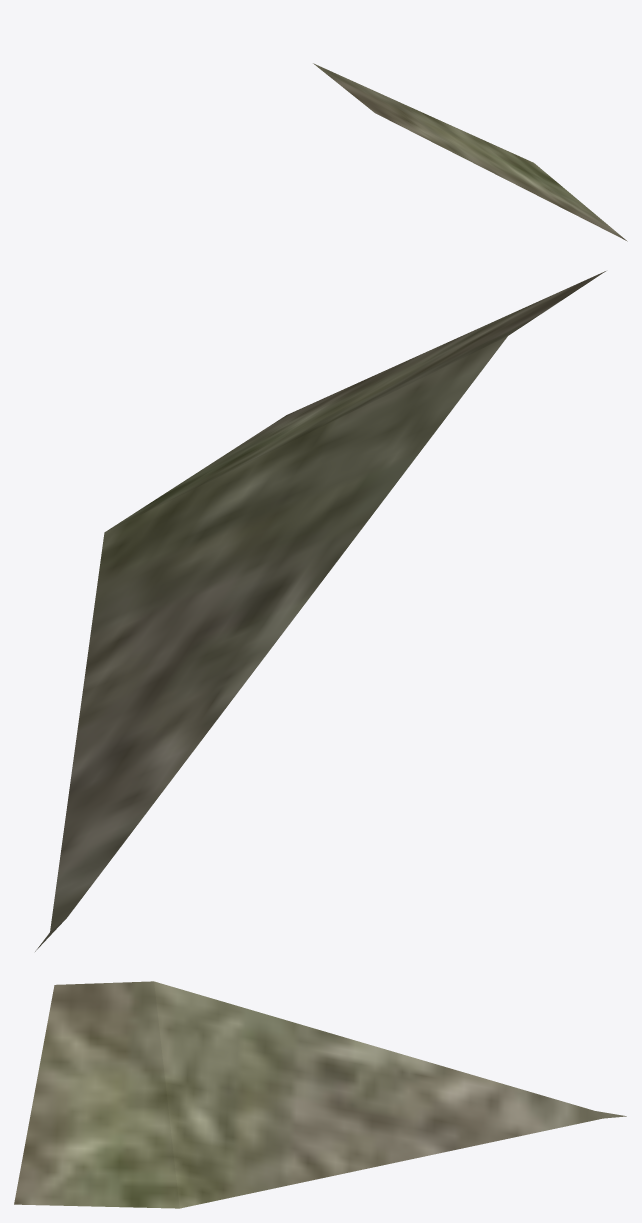
The picture shows the model from 3 angles, top to bottom: view 1: azimuth 30°, elevation 25°; view 2: azimuth 150°, elevation 25°; view 3: azimuth 270°, elevation 25°; orthographic projection. The views are drawn at different scales.
Size of the model in its own units: 0.3463 by 0.2363 by 0.9741.
1 material, 1 textured.
